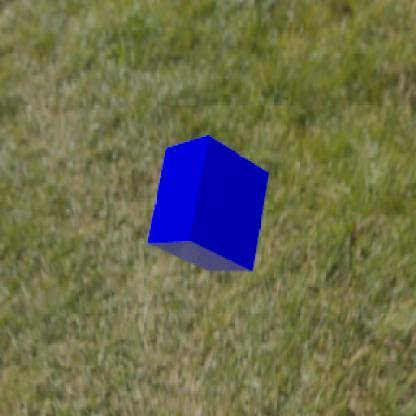blue_cube: (147, 134, 269, 272)
